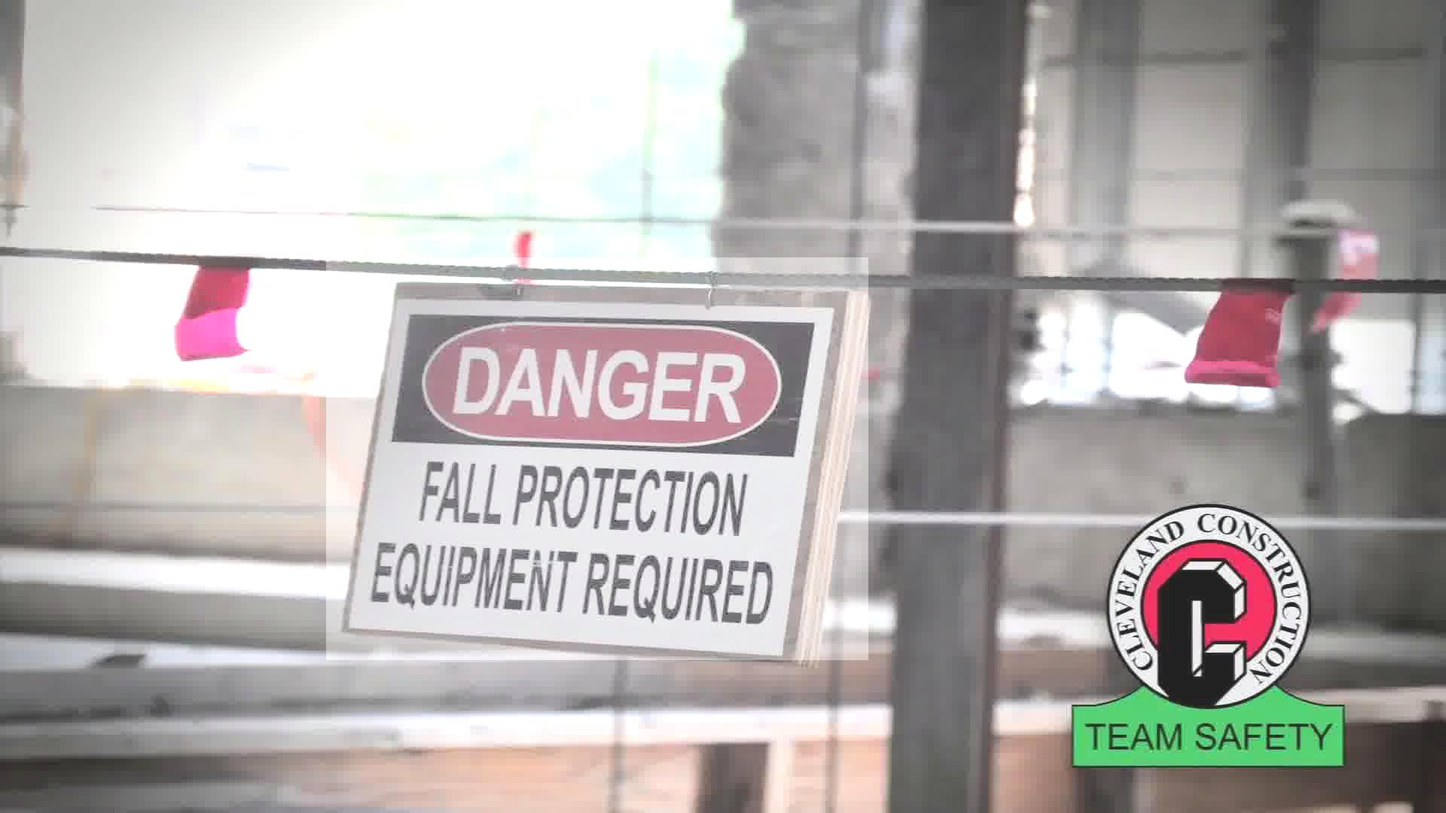safety_signage: (326, 257, 868, 660)
